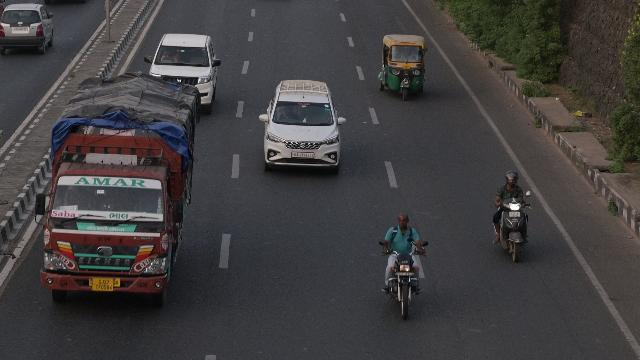With Helmet: (502, 170, 522, 187)
Without Helmet: (396, 212, 410, 228)
